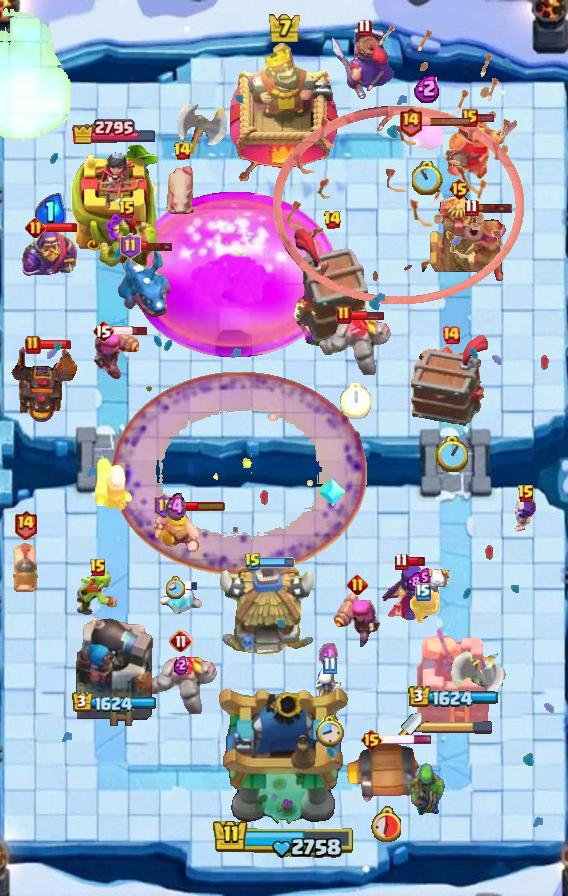axe: (450, 638, 506, 696), (176, 104, 228, 156)
bar: (173, 500, 226, 512), (380, 734, 433, 745), (420, 116, 472, 127), (112, 325, 149, 337), (476, 202, 513, 214), (138, 240, 174, 252), (259, 557, 295, 568), (349, 310, 385, 321), (38, 339, 72, 350), (44, 222, 78, 233), (179, 580, 198, 592), (407, 556, 426, 567), (476, 113, 495, 123)
bar-level: (13, 509, 38, 540), (398, 106, 423, 137), (169, 629, 193, 653), (360, 728, 383, 752), (448, 177, 471, 201), (154, 493, 175, 519), (120, 233, 141, 259), (92, 319, 114, 343), (347, 574, 368, 595), (25, 217, 46, 238), (441, 325, 461, 345), (323, 210, 342, 230), (173, 141, 192, 161), (89, 558, 107, 578), (244, 552, 262, 572), (517, 484, 535, 504), (118, 200, 136, 220), (25, 335, 41, 355), (336, 305, 352, 325), (415, 583, 431, 601), (462, 109, 478, 127), (322, 656, 337, 675), (394, 552, 409, 571), (464, 198, 479, 217), (357, 18, 372, 37)
barbarian: (153, 511, 199, 553)
barbarian-barrel: (345, 744, 425, 804)
cannoneer-tower: (71, 611, 157, 731)
clock: (435, 436, 468, 472), (370, 806, 401, 842), (340, 383, 371, 419), (412, 161, 443, 195), (314, 713, 344, 747), (166, 576, 186, 600)
dagger-duchess-tower: (414, 623, 492, 731)
dagger-duchess-tower-bar: (422, 720, 494, 734)
electro-dragon: (116, 245, 172, 321)
elixir: (34, 193, 66, 231), (414, 73, 441, 103), (166, 492, 186, 523), (319, 642, 340, 668), (407, 572, 423, 591), (416, 568, 431, 587), (174, 655, 188, 675)
elixir-golem-small: (409, 122, 445, 152)
firecracker: (333, 590, 381, 652), (92, 328, 142, 382), (93, 455, 135, 513)
goblin: (76, 567, 120, 617)
goblin-brawler: (97, 217, 157, 271)
golemite: (143, 652, 219, 714), (317, 313, 393, 375)
hog: (165, 165, 199, 221)
ice-spirit: (159, 583, 205, 619)
ice-spirit-evolution-symbol: (317, 477, 347, 507)
king-tower: (216, 684, 352, 826), (230, 43, 338, 181)
king-tower-bar: (212, 818, 356, 860)
knight: (445, 116, 518, 179)
knight-evolution: (22, 228, 78, 277)
musketeer: (464, 213, 506, 283)
queen-tower: (71, 145, 157, 256)
royal-hog: (9, 542, 41, 596)
skeleton: (313, 668, 345, 704)
skeleton-evolution: (408, 592, 439, 628), (513, 496, 539, 532)
spear-goblin: (406, 761, 446, 819)
tesla: (428, 193, 490, 277)
tower-bar: (71, 117, 158, 144), (408, 685, 499, 708), (72, 691, 157, 713)
witch: (381, 562, 449, 624)
